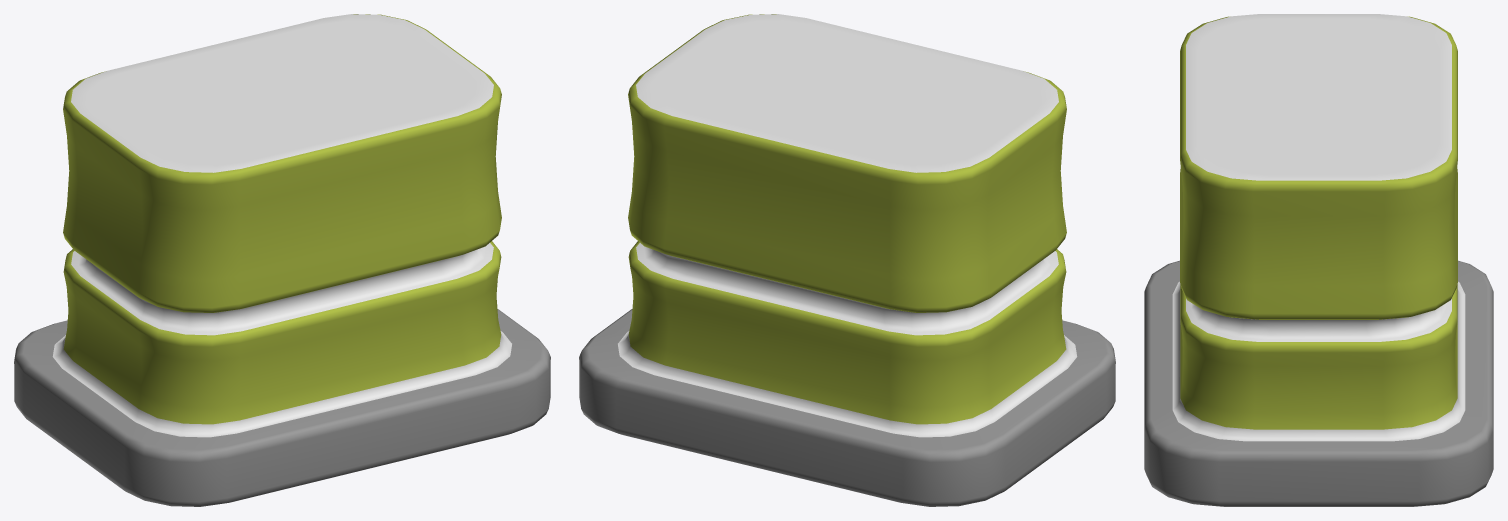
File: SM_Building_03_Version_03_Part_01.fbx
The picture shows the model from 3 angles, left to right: view 1: azimuth 30°, elevation 25°; view 2: azimuth 150°, elevation 25°; view 3: azimuth 270°, elevation 25°; orthographic projection.
Parts seen in each view (by area): view 1: SM_Building_03_Version_03_Part_01; view 2: SM_Building_03_Version_03_Part_01; view 3: SM_Building_03_Version_03_Part_01.
Part boxes in pixels (x1=…): SM_Building_03_Version_03_Part_01: x1=14, y1=14, x2=550, y2=506; SM_Building_03_Version_03_Part_01: x1=579, y1=14, x2=1115, y2=506; SM_Building_03_Version_03_Part_01: x1=1144, y1=14, x2=1493, y2=506.
Size of the model in its own units: 5055 by 3636 by 3693.
